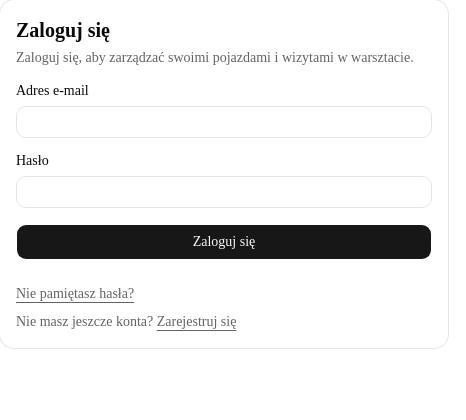
Test case: LoginForm › maps the INVALID_CREDENTIALS error code to a Polish message
This screenshot has width=466, height=420.
Type "jan.kowalski@example.com" into the field labelled "Adres e-mail".
click(224, 122); type("jan.kowalski@example.com")  # box [16,106,432,138]
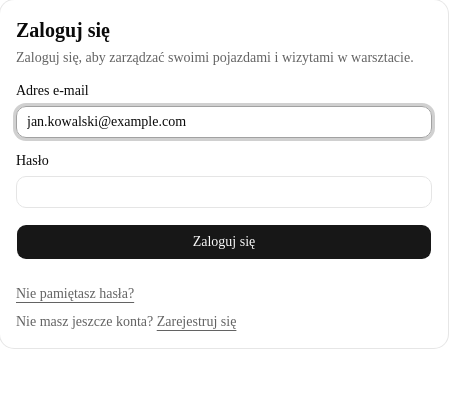
Type "zle-haslo" into the password field labelled "Hasło".
click(224, 192); type("zle-haslo")  # box [16,176,432,208]
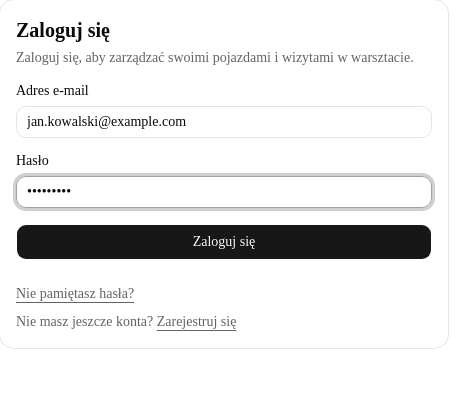
Click the button "Zaloguj się".
click(224, 242)  # box [16,224,432,260]
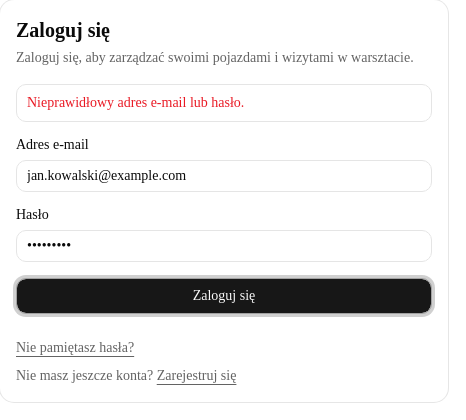
Result: the message reads "Nieprawidłowy adres e-mail lub hasło." at [27,95,244,110]
